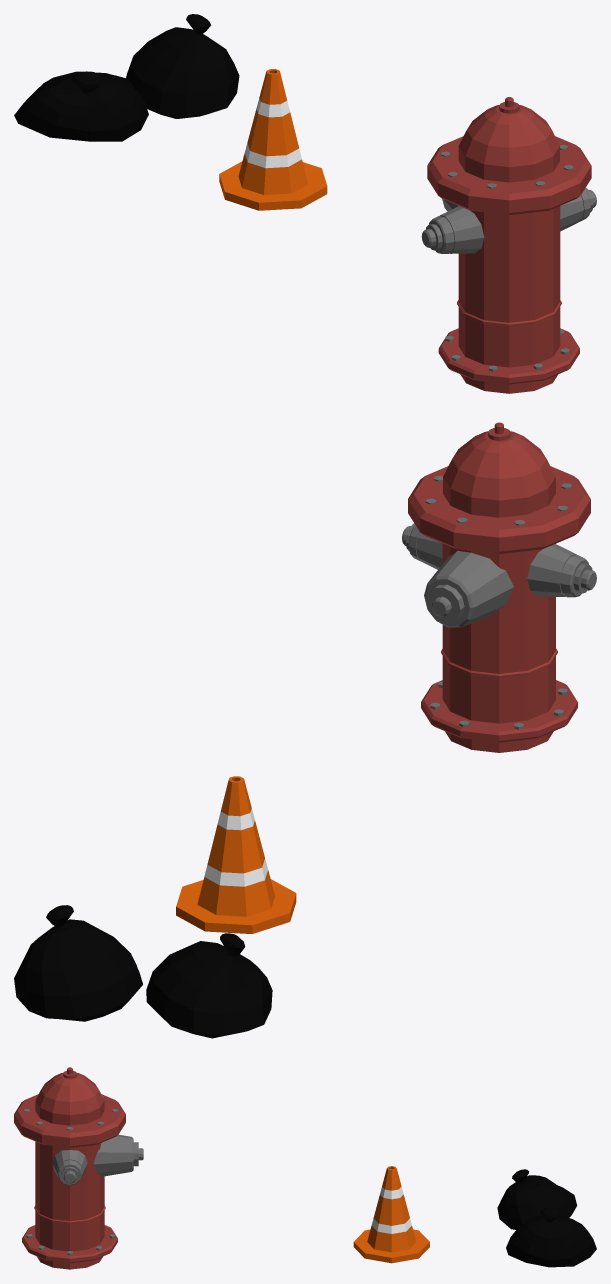
The model's file is Lowpoly Hydrant.fbx.
3 renders of one model, top to bottom at view 1: azimuth 30°, elevation 25°; view 2: azimuth 150°, elevation 25°; view 3: azimuth 270°, elevation 25°, orthographic. The views are drawn at different scales.
Visible parts, largest first — view 1: Circle, Müllsack, Trafficcone, Müllsack 2; view 2: Circle, Müllsack, Trafficcone, Müllsack 2; view 3: Circle, Trafficcone, Müllsack, Müllsack 2.
Part boxes in pixels (<box>): Circle: <box>421,97,596,393</box>; Müllsack: <box>126,14,239,118</box>; Trafficcone: <box>219,69,327,210</box>; Müllsack 2: <box>14,71,148,141</box>; Circle: <box>402,422,596,752</box>; Müllsack: <box>14,905,142,1021</box>; Trafficcone: <box>176,776,296,933</box>; Müllsack 2: <box>146,933,272,1038</box>; Circle: <box>14,1067,143,1269</box>; Trafficcone: <box>353,1166,429,1263</box>; Müllsack: <box>506,1207,596,1267</box>; Müllsack 2: <box>497,1169,577,1229</box>.
Bounding box in the file's own units: 516 × 605 × 1709.
